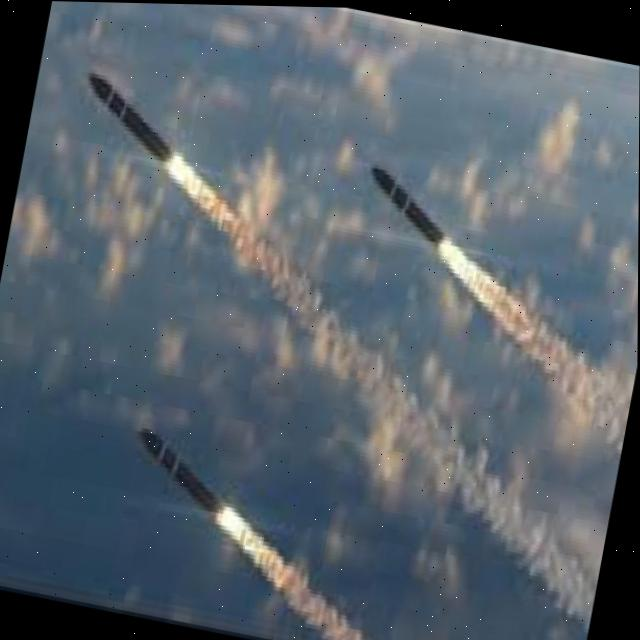missile: (68, 60, 193, 179), (123, 423, 244, 526), (351, 153, 461, 255)
